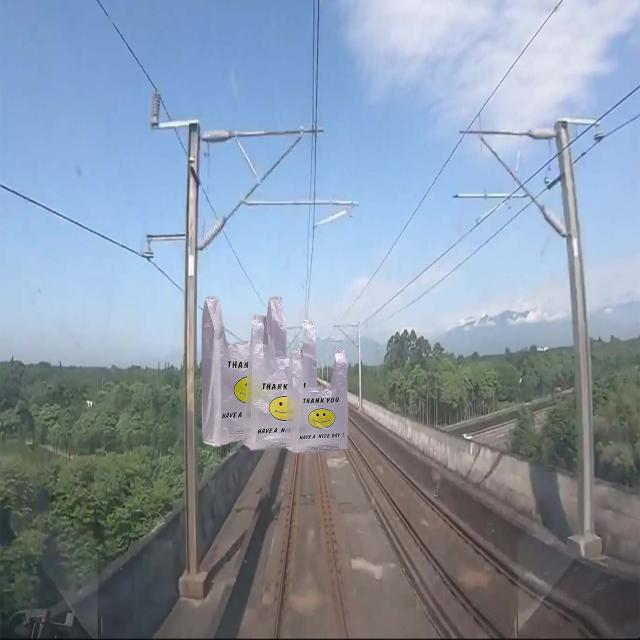plastic bag: (202, 299, 285, 444), (262, 325, 307, 455), (298, 335, 344, 454)
